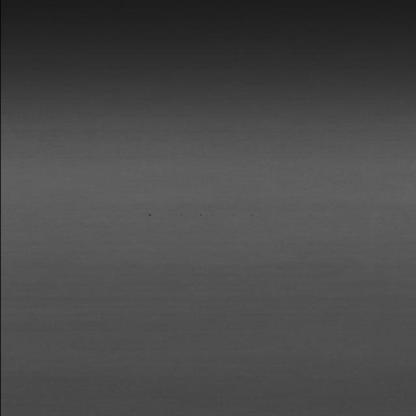inclusion: (194, 210, 258, 218), (135, 211, 189, 219)
